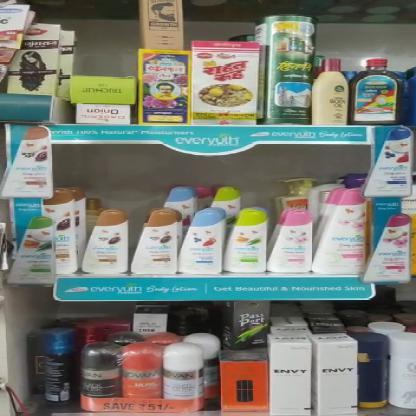Everyuth Naturals Body Lotion Nourishing Cocoa 200ml: (80, 208, 132, 278), (136, 206, 184, 276)
Everyuth Naturals Body Lotion Rejuvenating Flora 200ml: (320, 185, 378, 277), (271, 207, 320, 276)
Everyuth Naturals Body Lotion Soothing Citrus 200ml: (225, 206, 274, 274)
Everyuth Naturals Body Lotion Sun Care Berries SPF 15 200ml: (180, 207, 228, 277)
